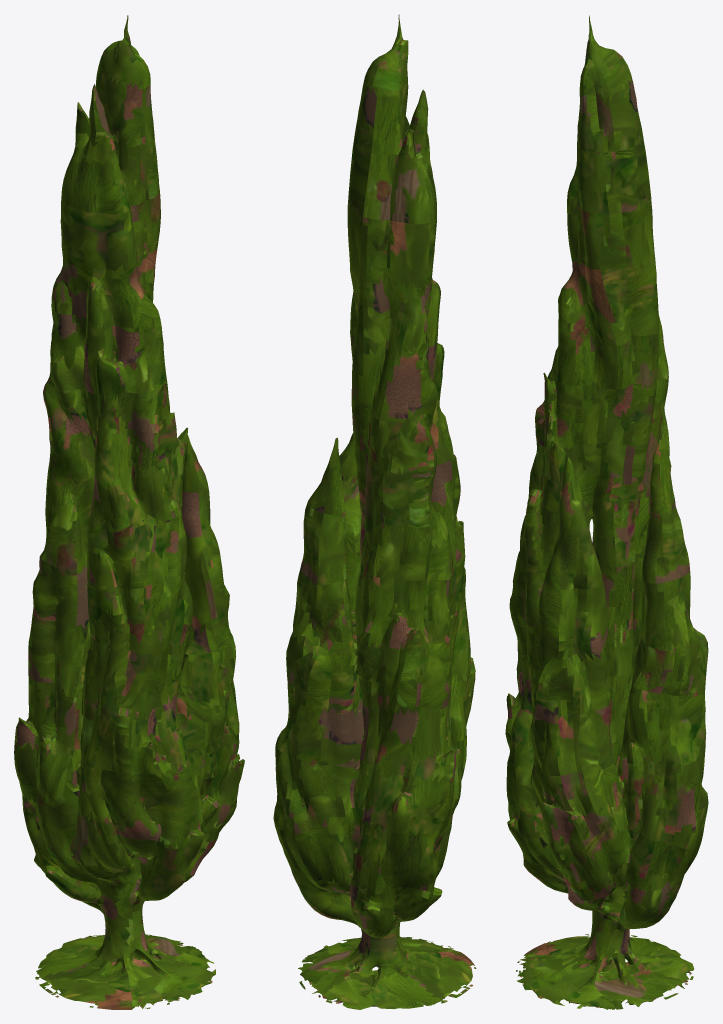
File: veg_conifer_cypress_01.obj
The picture shows the model from 3 angles, left to right: view 1: azimuth 30°, elevation 25°; view 2: azimuth 150°, elevation 25°; view 3: azimuth 270°, elevation 25°; orthographic projection.
Parts seen in each view (by area): view 1: veg_conifer_cypress_01; view 2: veg_conifer_cypress_01; view 3: veg_conifer_cypress_01.
Part boxes in pixels (bbox=[...]): veg_conifer_cypress_01: bbox=[14, 15, 244, 1009]; veg_conifer_cypress_01: bbox=[273, 14, 476, 1009]; veg_conifer_cypress_01: bbox=[505, 15, 708, 1009].
Bounding box in the file's own units: 8.41 × 41.54 × 8.
Materials: 1 (1 with a texture image).
